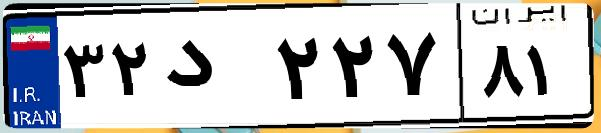1: (525, 38, 570, 115)
2: (270, 28, 330, 110), (330, 28, 385, 110), (110, 28, 158, 98)
3: (57, 26, 110, 100)
7: (385, 28, 445, 110)
8: (475, 38, 525, 113)
د: (158, 20, 270, 120)
